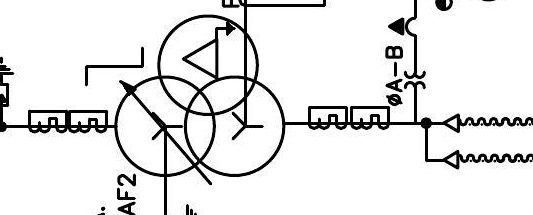11522_tx_ynyn0d1: (113, 13, 287, 178)
terminator_double: (424, 113, 460, 170)
